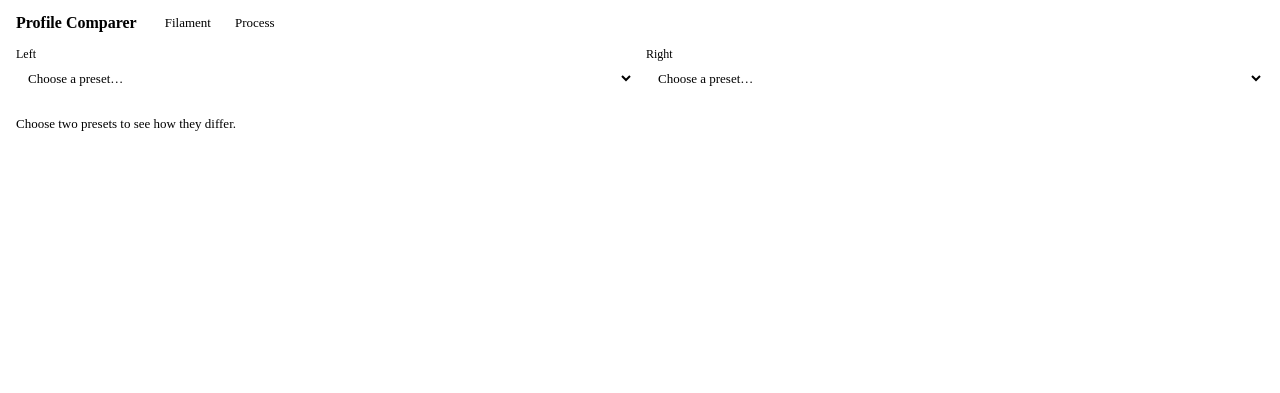
editing › selects every shown setting at once
The image size is (1280, 393).
Select "PLA — User" in the dropdown labelled "Left" at [325, 78], box top-left (16, 66), bottom-right (634, 91)
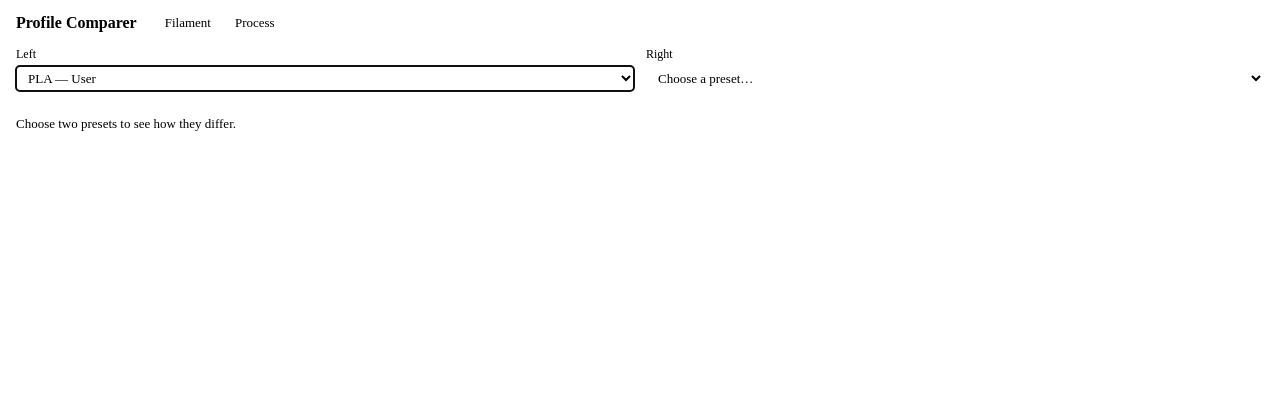
Select "PETG — User" in the dropdown labelled "Right" at [955, 78], box top-left (646, 66), bottom-right (1264, 91)
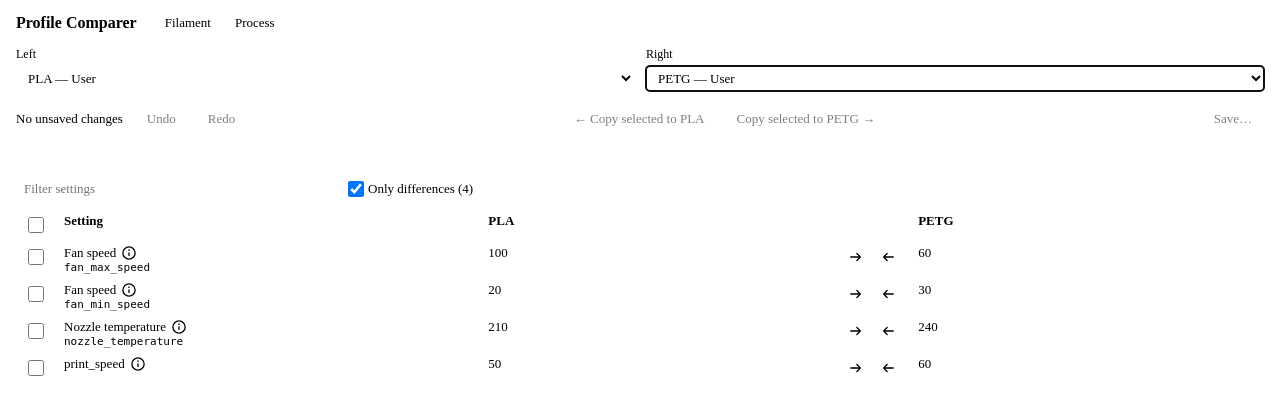
Click the checkbox named "Select all shown settings" at [36, 225], box top-left (28, 217), bottom-right (44, 233)
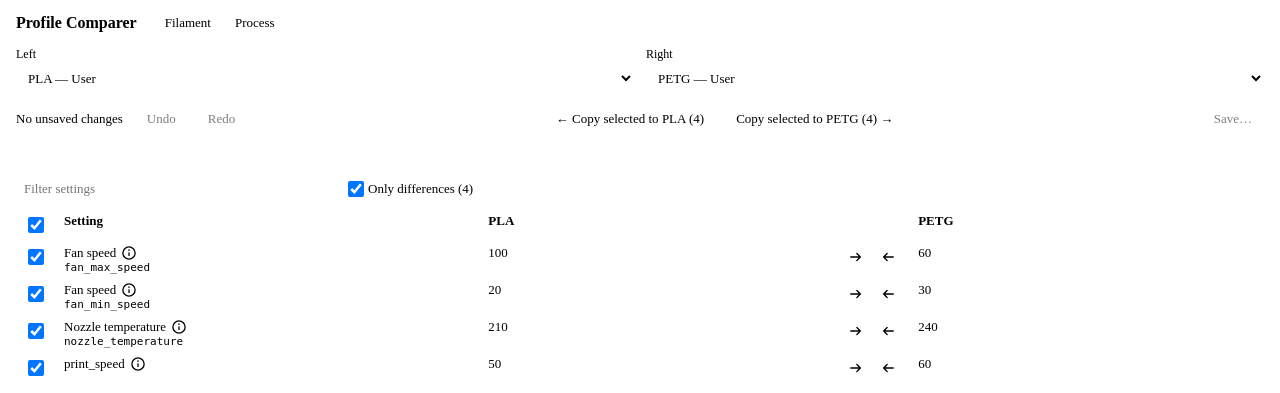
Check: the button "Copy selected to PETG (4) →" is enabled, box top-left (724, 103), bottom-right (905, 135)
